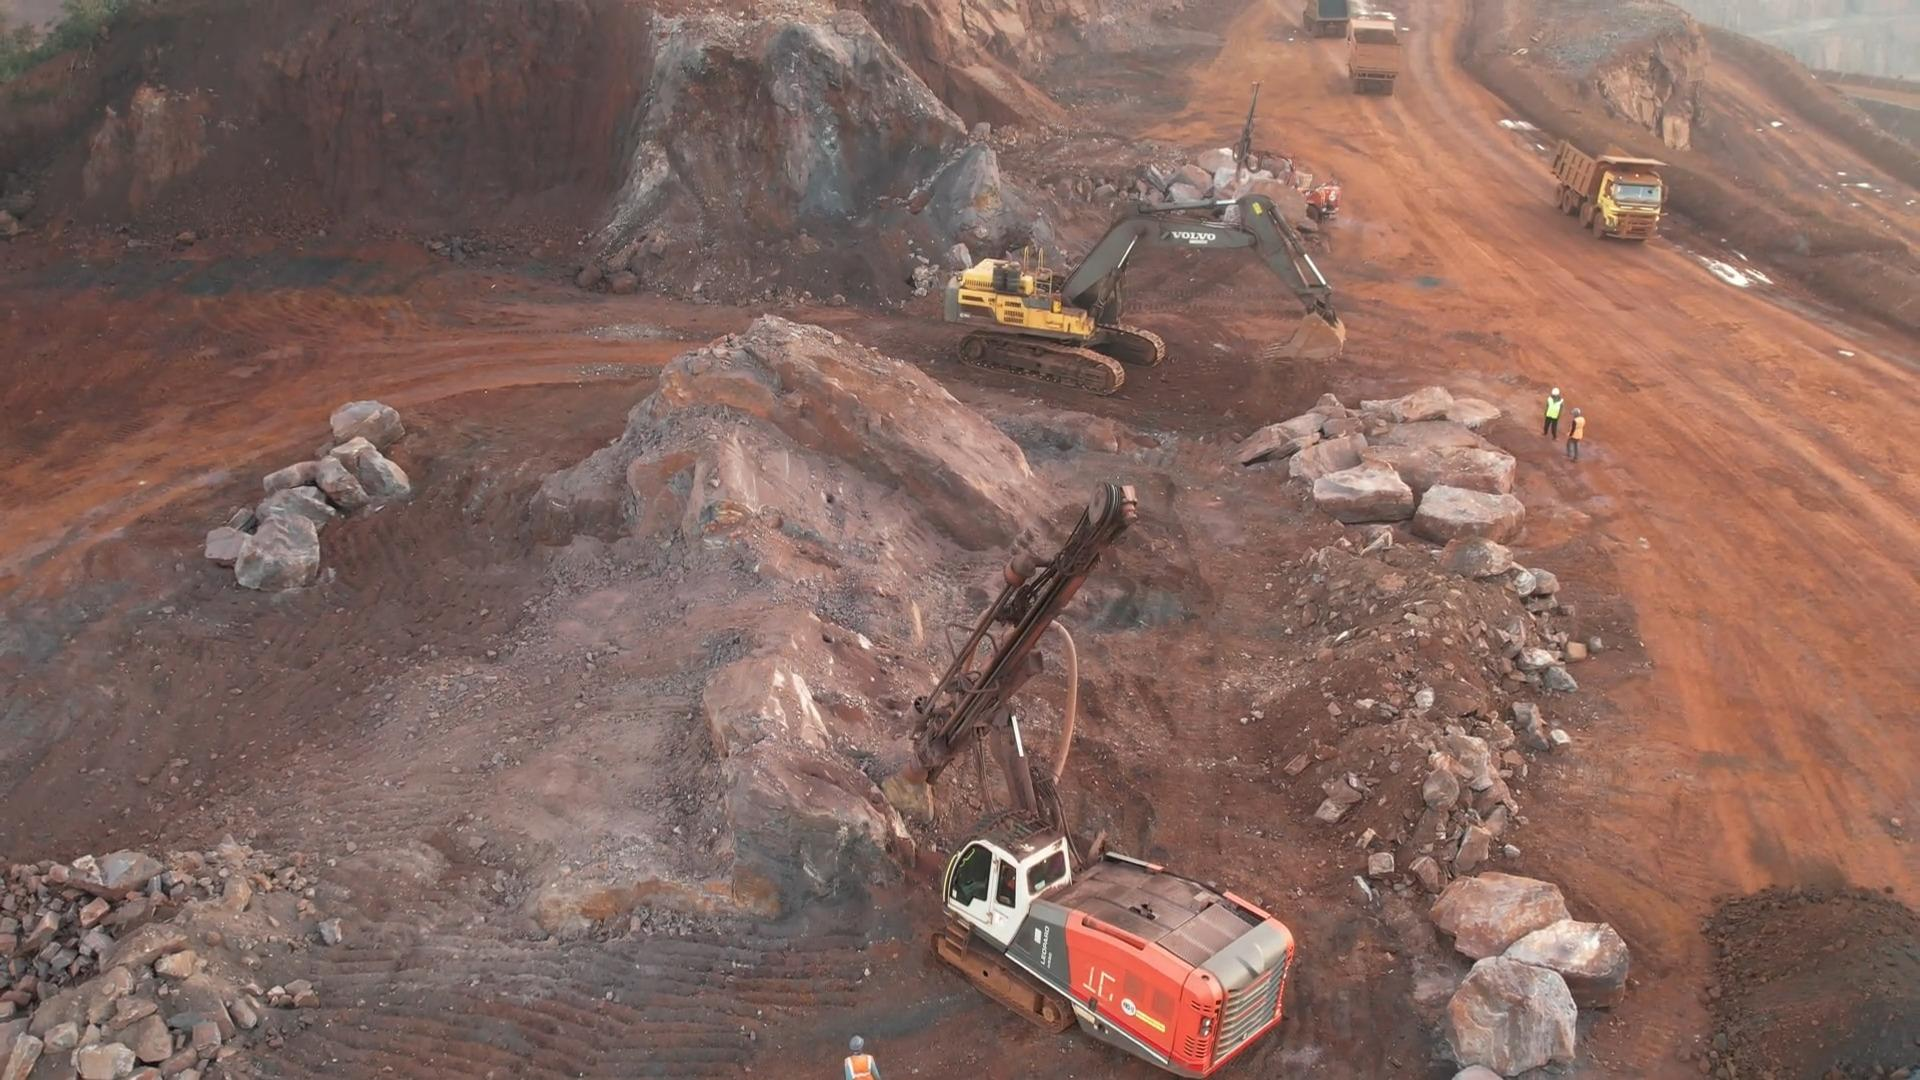excavator: (948, 203, 1329, 373)
